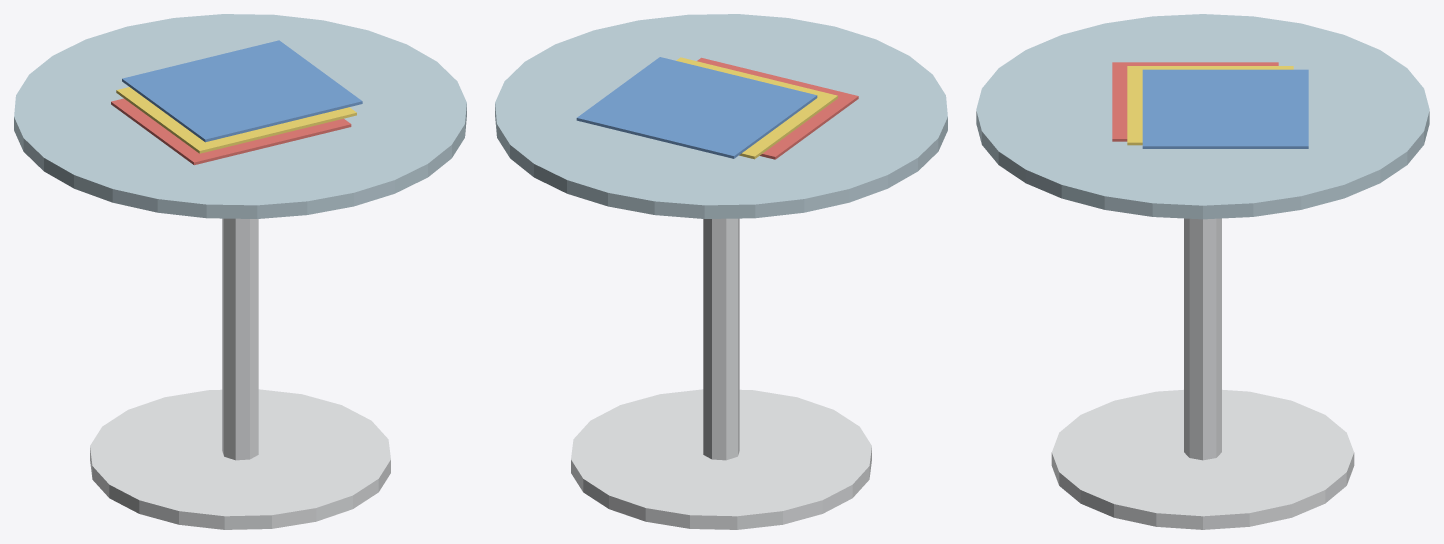
Rendered from side_table.glb.
The picture shows the model from 3 angles, left to right: view 1: azimuth 30°, elevation 25°; view 2: azimuth 150°, elevation 25°; view 3: azimuth 270°, elevation 25°; orthographic projection.
Parts seen in each view (by area): view 1: side_table_glass, side_table_chrome, side_table_flag_b, side_table_flag_r, side_table_flag_y; view 2: side_table_glass, side_table_chrome, side_table_flag_b, side_table_flag_r, side_table_flag_y; view 3: side_table_glass, side_table_chrome, side_table_flag_b, side_table_flag_r, side_table_flag_y.
Boxes of the visible parts, x1,y1,x2,y2 form: side_table_glass: [14, 14, 466, 218]; side_table_chrome: [90, 218, 390, 529]; side_table_flag_b: [122, 40, 362, 142]; side_table_flag_r: [111, 98, 351, 165]; side_table_flag_y: [116, 87, 356, 153]; side_table_glass: [495, 14, 947, 218]; side_table_chrome: [571, 218, 871, 529]; side_table_flag_b: [576, 57, 817, 158]; side_table_flag_r: [697, 57, 858, 159]; side_table_flag_y: [676, 57, 837, 159]; side_table_glass: [976, 14, 1429, 219]; side_table_chrome: [1051, 218, 1354, 529]; side_table_flag_b: [1142, 69, 1308, 148]; side_table_flag_r: [1112, 62, 1278, 141]; side_table_flag_y: [1127, 66, 1293, 145].
Bounding box in the file's own units: 0.6 × 0.532 × 0.6.
